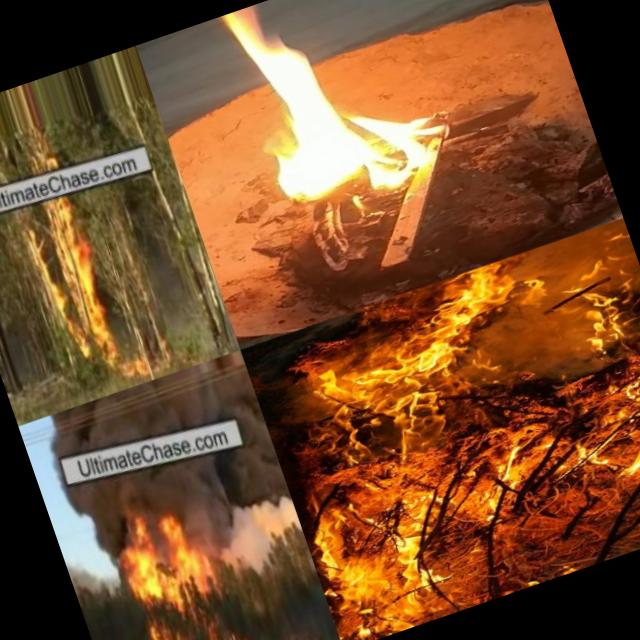fire: (244, 216, 640, 640), (175, 0, 465, 237), (20, 199, 126, 376), (107, 502, 212, 614), (128, 625, 200, 640), (202, 628, 250, 640), (280, 627, 318, 640)
smoke: (162, 436, 304, 574)
